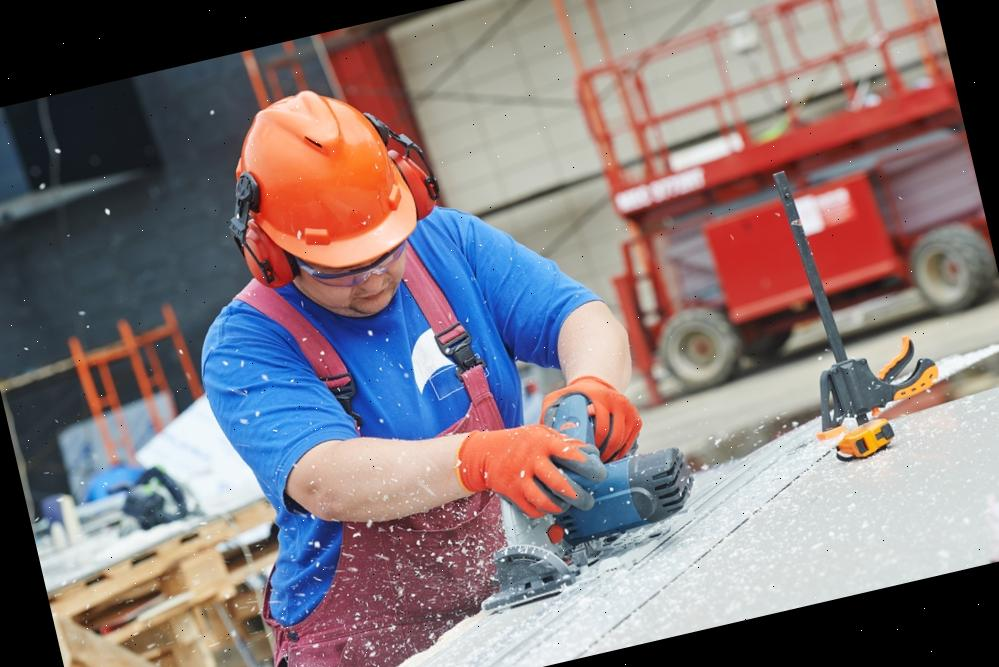helmet: (215, 62, 450, 306)
no_wear: (208, 266, 554, 606)
